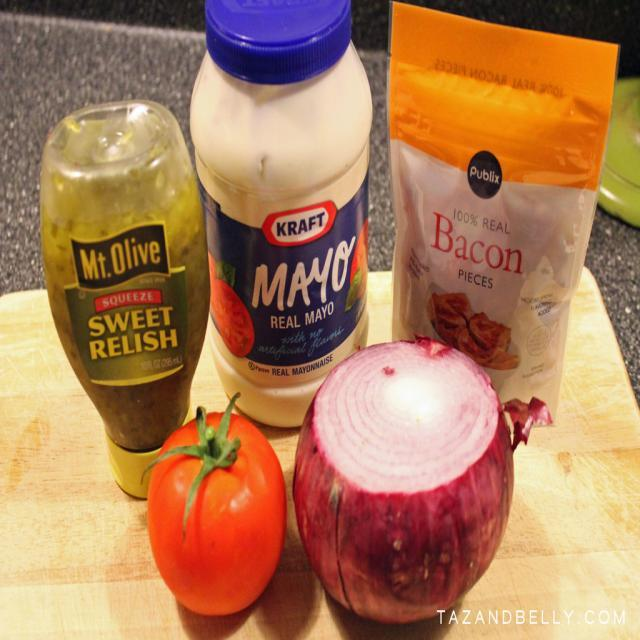Tomato: (140, 384, 288, 614)
